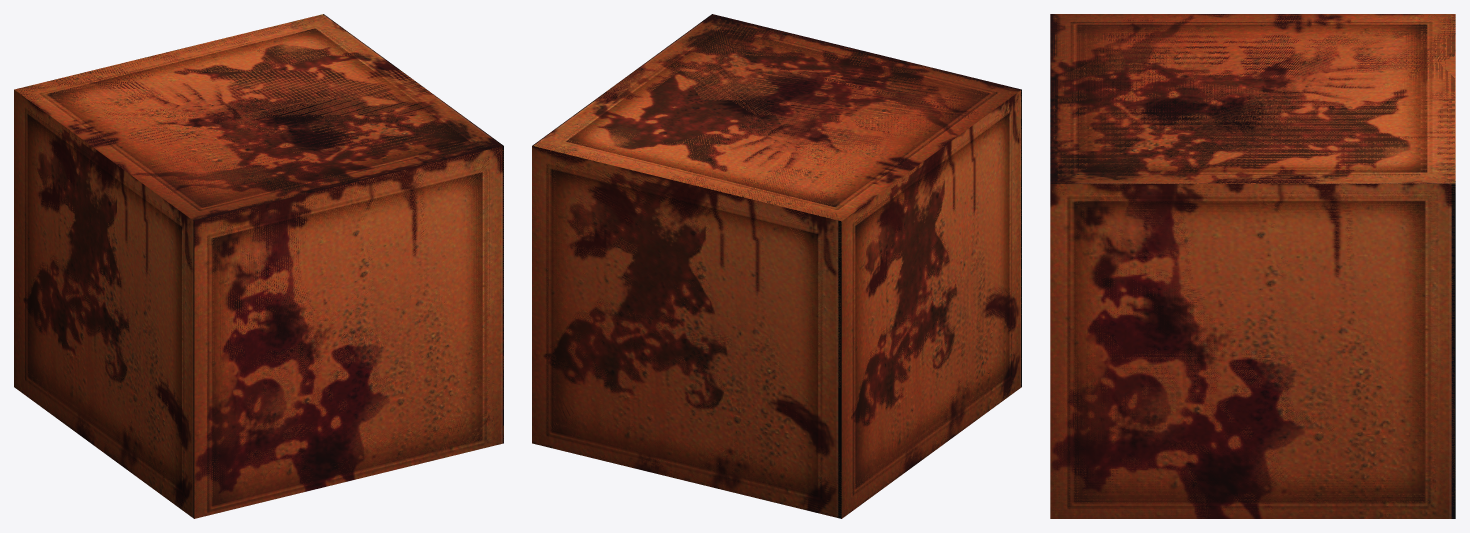
The model's file is Crate3.dae.
3 views of the same model, side by side, from view 1: azimuth 30°, elevation 25°; view 2: azimuth 150°, elevation 25°; view 3: azimuth 270°, elevation 25° (orthographic). The views are drawn at different scales.
Parts seen in each view (by area): view 1: ske76; view 2: ske76; view 3: ske76.
Part boxes in pixels (x1,y1,x2,y2): ske76: [14, 14, 503, 518]; ske76: [532, 14, 1021, 518]; ske76: [1050, 14, 1455, 518].
Size of the model in its own units: 33.75 by 34 by 31.
1 material, 1 textured.
